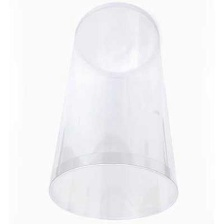plastic_box: (42, 0, 184, 224)
